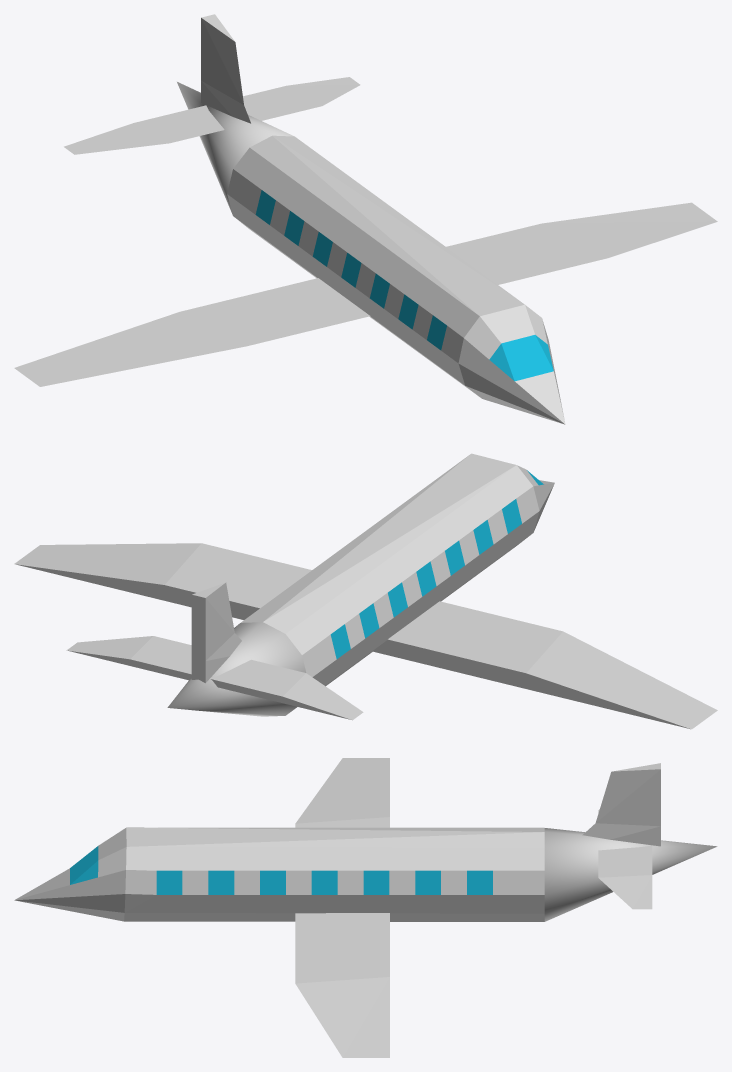
File: fix.fbx
3 renders of one model, top to bottom at view 1: azimuth 30°, elevation 25°; view 2: azimuth 150°, elevation 25°; view 3: azimuth 270°, elevation 25°, orthographic. The views are drawn at different scales.
Parts seen in each view (by area): view 1: group1; view 2: group1; view 3: group1.
Part boxes in pixels (bbox=[...]): group1: bbox=[14, 14, 717, 424]; group1: bbox=[14, 453, 717, 729]; group1: bbox=[14, 758, 717, 1057].
Bounding box in the file's own units: 2.19 × 0.5171 × 2.18.
